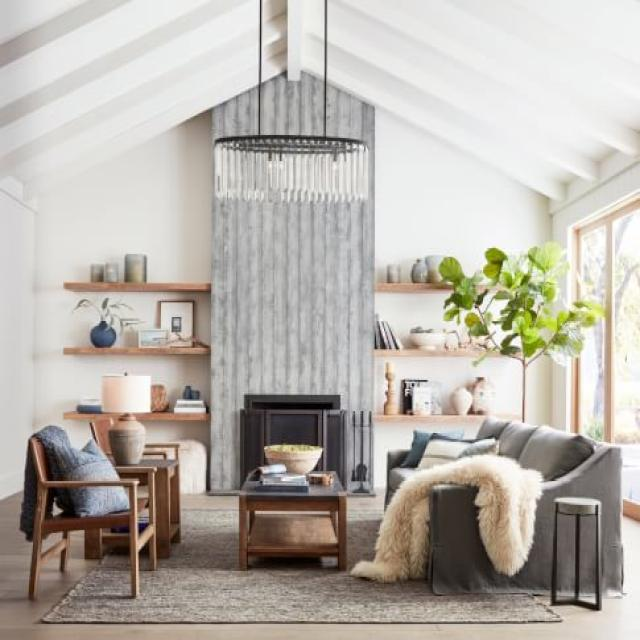Chair: (15, 426, 159, 594)
Lamp: (212, 0, 376, 202), (101, 367, 150, 458)
Sofa: (381, 418, 620, 598)
Table: (233, 450, 349, 570)
